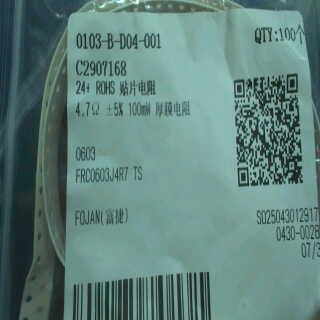4.7R: (73, 97, 103, 120)
